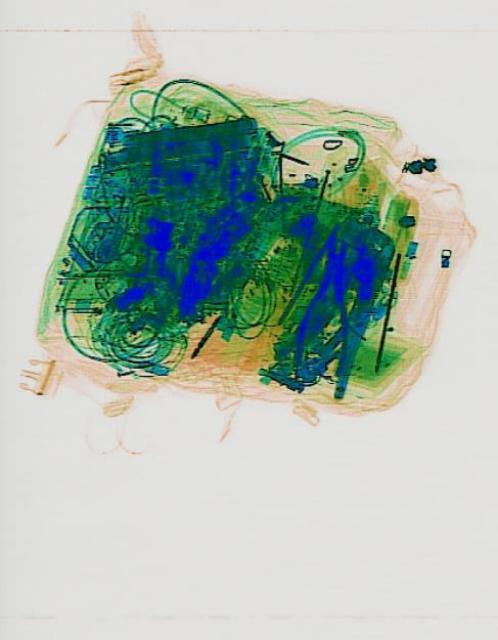Pliers: (288, 228, 362, 382)
